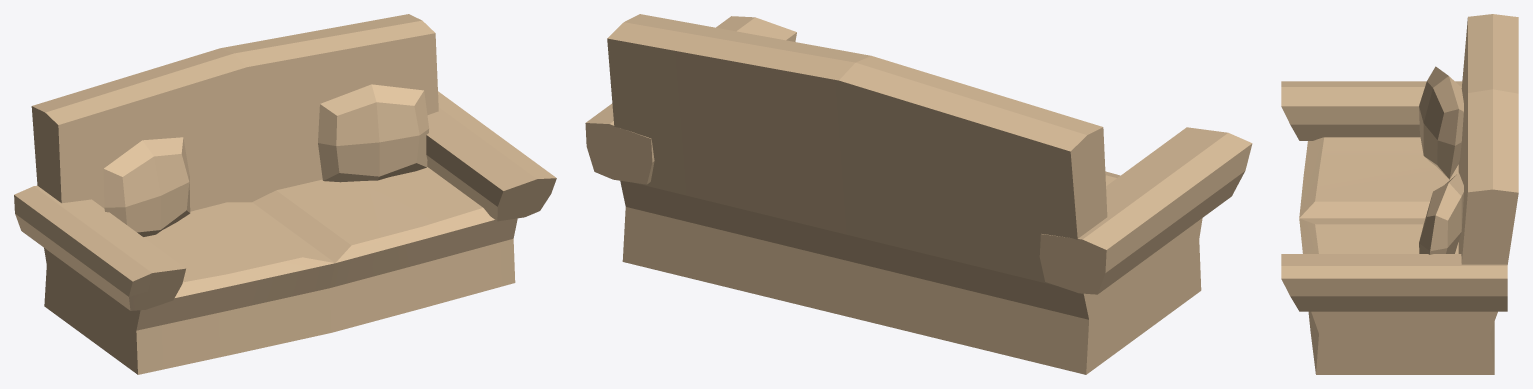
File: furniture_sofa.fbx
3 renders of one model, left to right at view 1: azimuth 30°, elevation 25°; view 2: azimuth 150°, elevation 25°; view 3: azimuth 270°, elevation 25°, orthographic. The views are drawn at different scales.
Visible parts, largest first — view 1: furniture_sofa; view 2: furniture_sofa; view 3: furniture_sofa.
Part boxes in pixels (<box>): furniture_sofa: <box>14,14,556,374</box>; furniture_sofa: <box>585,14,1252,374</box>; furniture_sofa: <box>1281,14,1518,374</box>.
Bounding box in the file's own units: 200 × 93.51 × 102.
